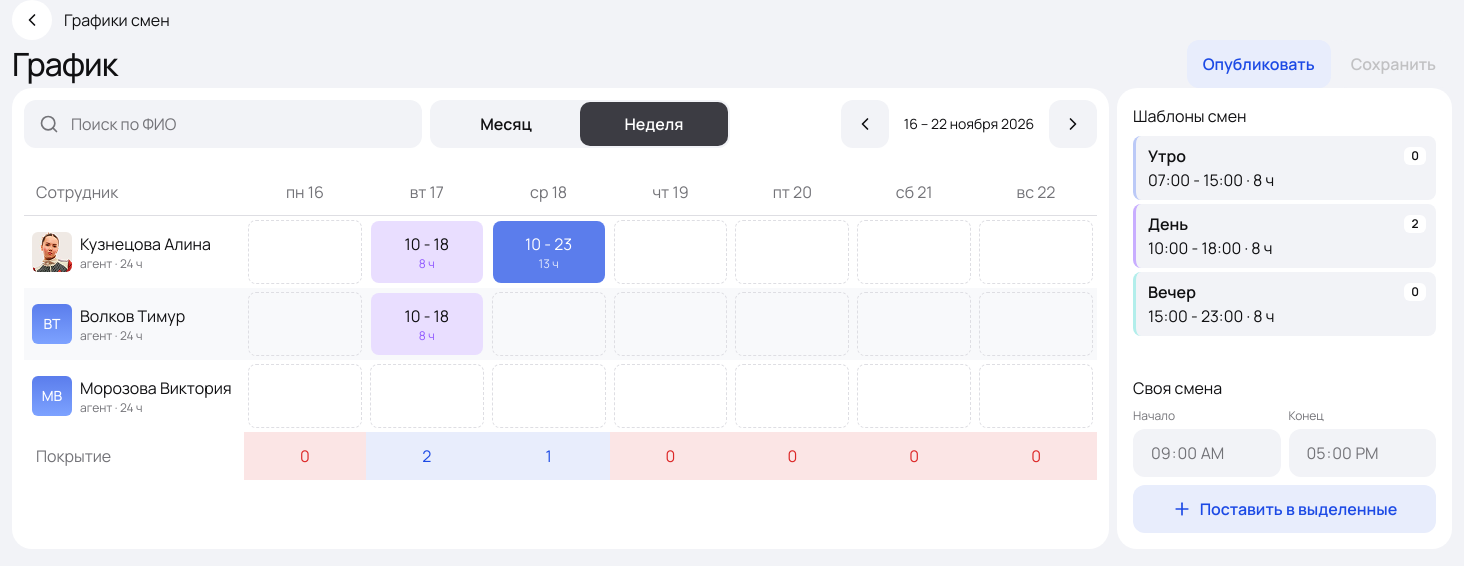
SchedulePage: назначение смен › очистка смены уменьшает покрытие
The image size is (1464, 566).
expect the table is shown: met, box [24,168,1097,537]
Click the cell "10 - 18 8 ч" next to "Кузнецова Алина": (427, 252) [366,216,488,288]
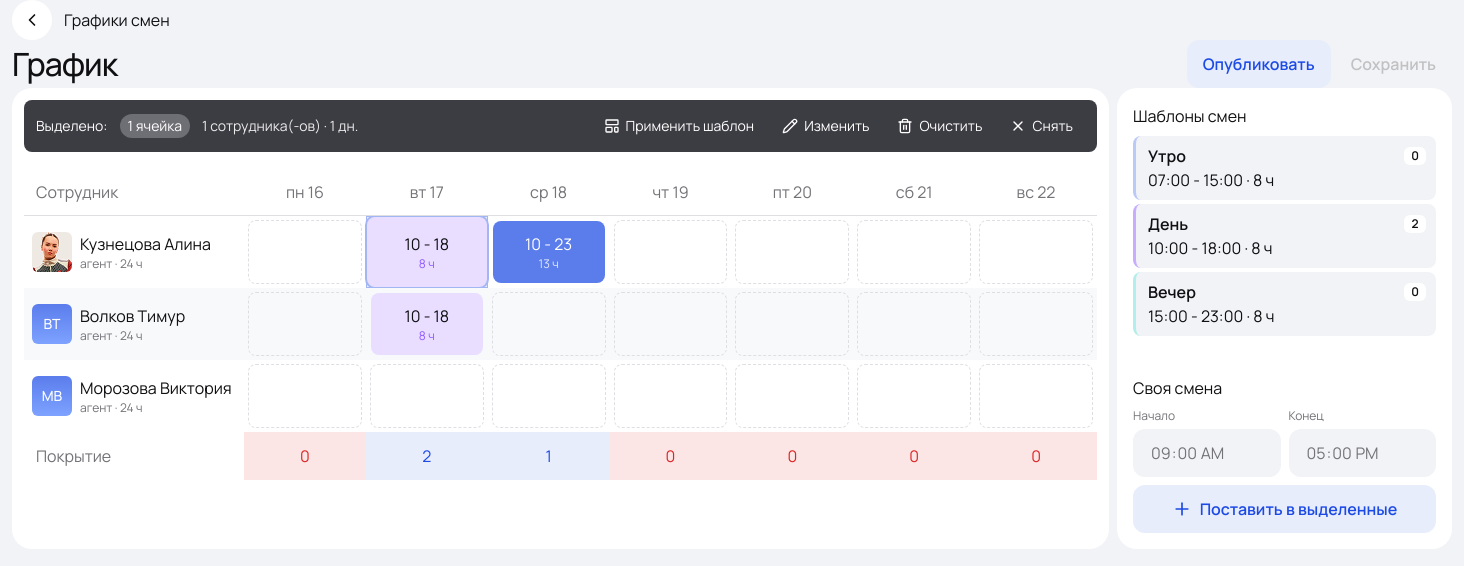
Click the button "Очистить": (940, 126) [886,110,994,142]
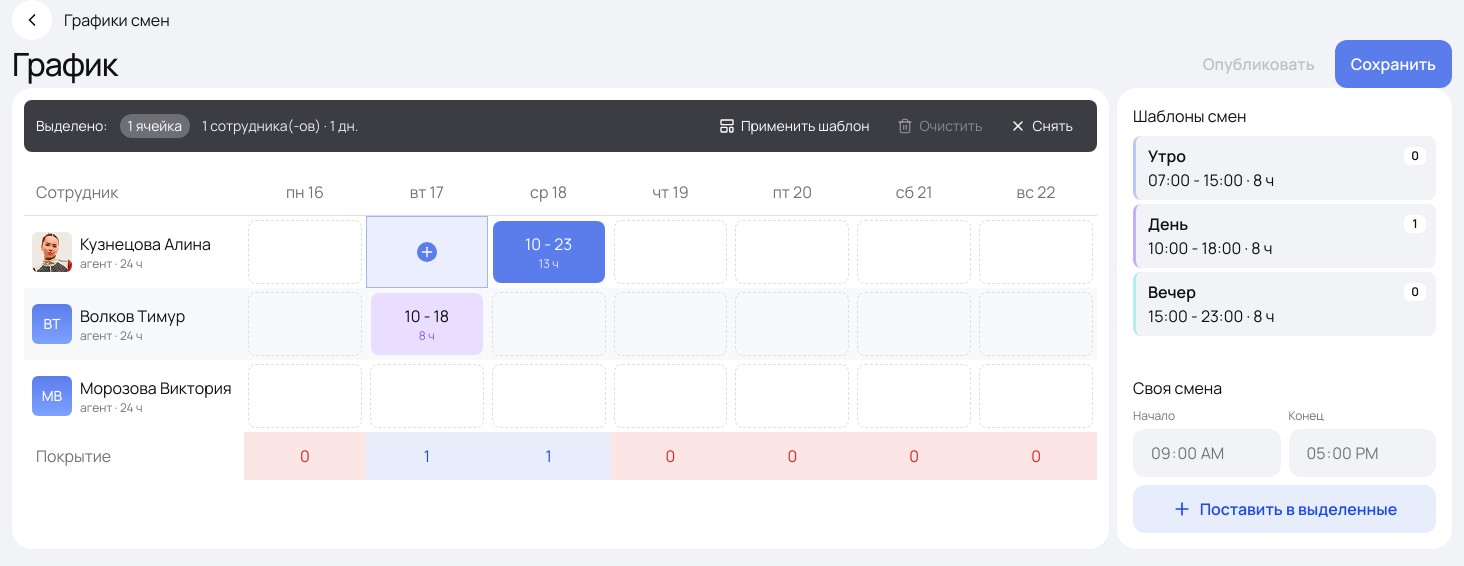
expect the cell named "Покрытие 2026-11-17: 1" is shown: met, box [366,432,488,480]
